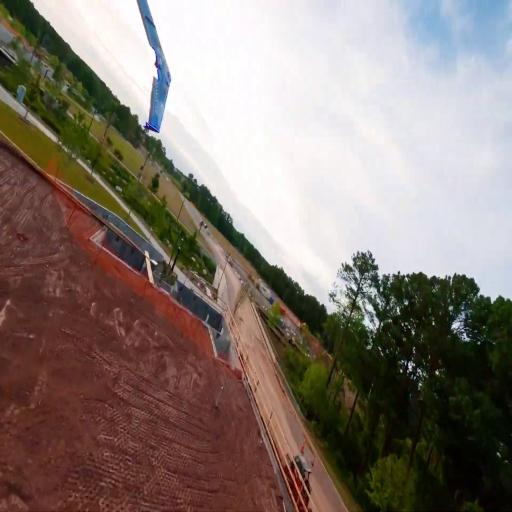uav: (128, 0, 174, 139)
